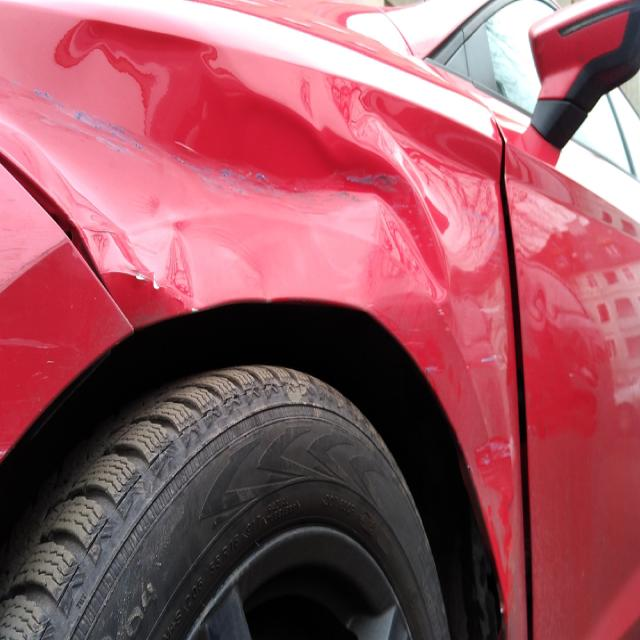dent: (15, 16, 452, 317)
